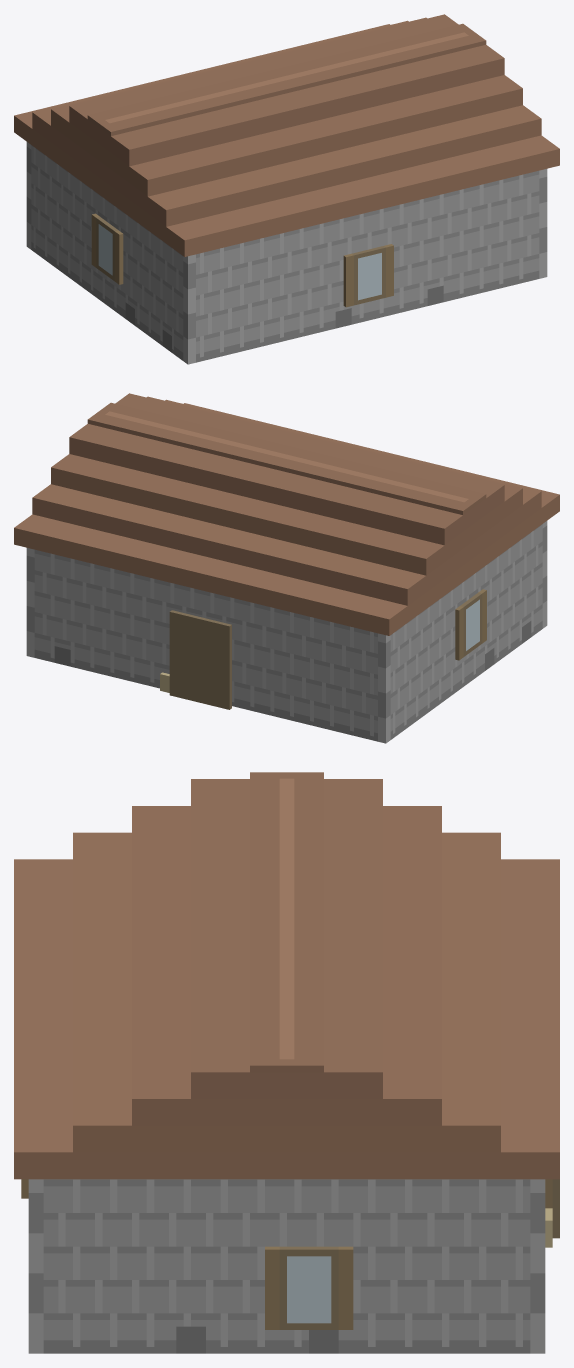
Rendered from taller_lapidario_04.glb.
3 views of the same model, one above another, from view 1: azimuth 30°, elevation 25°; view 2: azimuth 150°, elevation 25°; view 3: azimuth 270°, elevation 25° (orthographic). The views are drawn at different scales.
Parts seen in each view (by area): view 1: taller_lapidario_04; view 2: taller_lapidario_04; view 3: taller_lapidario_04.
Boxes of the visible parts, x1,y1,x2,y2 form: taller_lapidario_04: (14, 14, 559, 364); taller_lapidario_04: (14, 393, 559, 743); taller_lapidario_04: (14, 772, 559, 1353).
Size of the model in its own units: 9.4 by 4.4 by 7.4.
